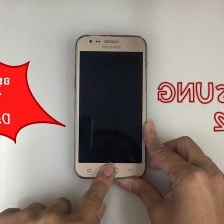phone: (69, 30, 151, 183)
